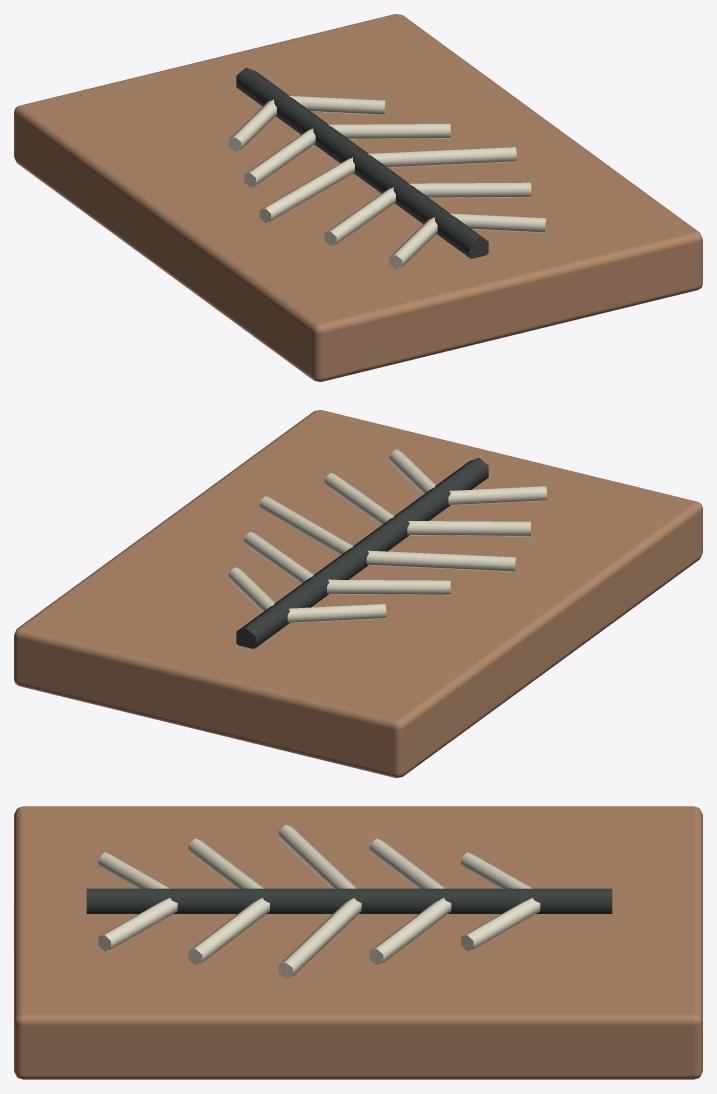
File: prehistoric-expedition-sites-leaf-impression-9c4a37ec__26113.glb
3 renders of one model, top to bottom at view 1: azimuth 30°, elevation 25°; view 2: azimuth 150°, elevation 25°; view 3: azimuth 270°, elevation 25°, orthographic. The views are drawn at different scales.
Parts seen in each view (by area): view 1: leaf-impression; view 2: leaf-impression; view 3: leaf-impression.
Boxes of the visible parts, <box> form: leaf-impression: <box>14,14,702,381</box>; leaf-impression: <box>14,410,702,777</box>; leaf-impression: <box>14,806,702,1079</box>.
Bounding box in the file's own units: 0.28 × 0.053 × 0.38.
